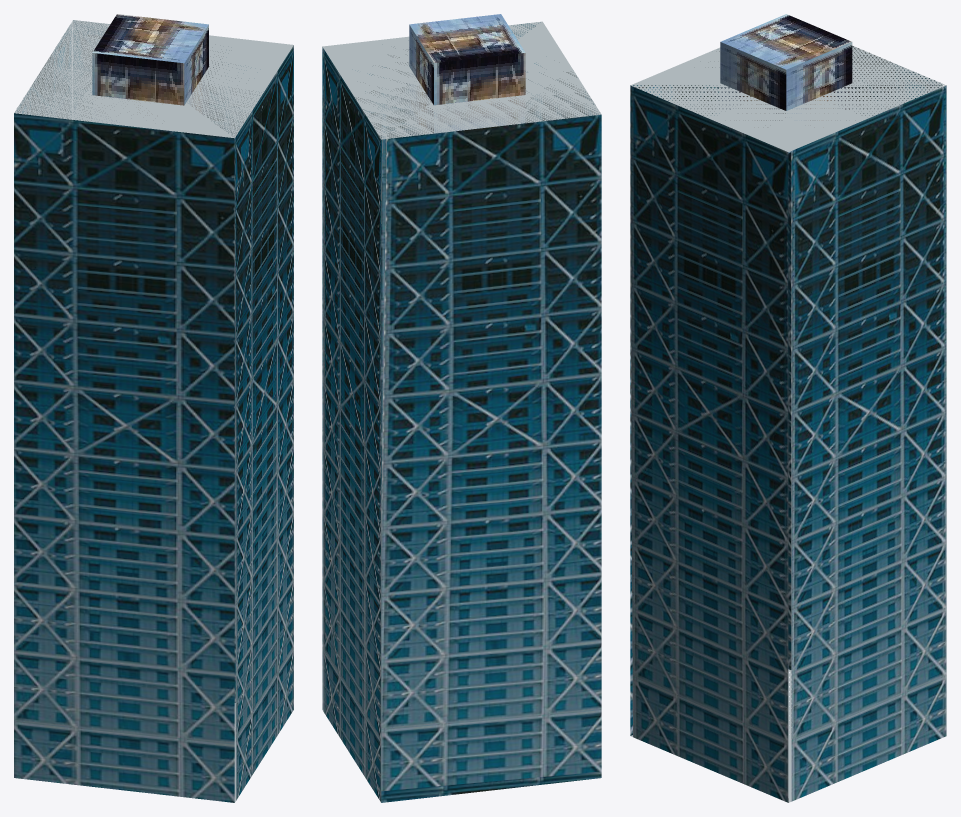
The model's file is ES_CAT_BCN_hotelarts.obj.
3 renders of one model, left to right at view 1: azimuth 30°, elevation 25°; view 2: azimuth 150°, elevation 25°; view 3: azimuth 270°, elevation 25°, orthographic. The views are drawn at different scales.
Parts seen in each view (by area): view 1: Cube.002, Cube.001; view 2: Cube.002, Cube.001; view 3: Cube.002, Cube.001.
Part boxes in pixels (<box>): Cube.002: <box>14,20,293,802</box>; Cube.001: <box>92,14,208,120</box>; Cube.002: <box>322,21,601,802</box>; Cube.001: <box>409,14,525,133</box>; Cube.002: <box>630,45,946,802</box>; Cube.001: <box>720,14,852,153</box>.
Bounding box in the file's own units: 6.79 × 16.38 × 6.79.
